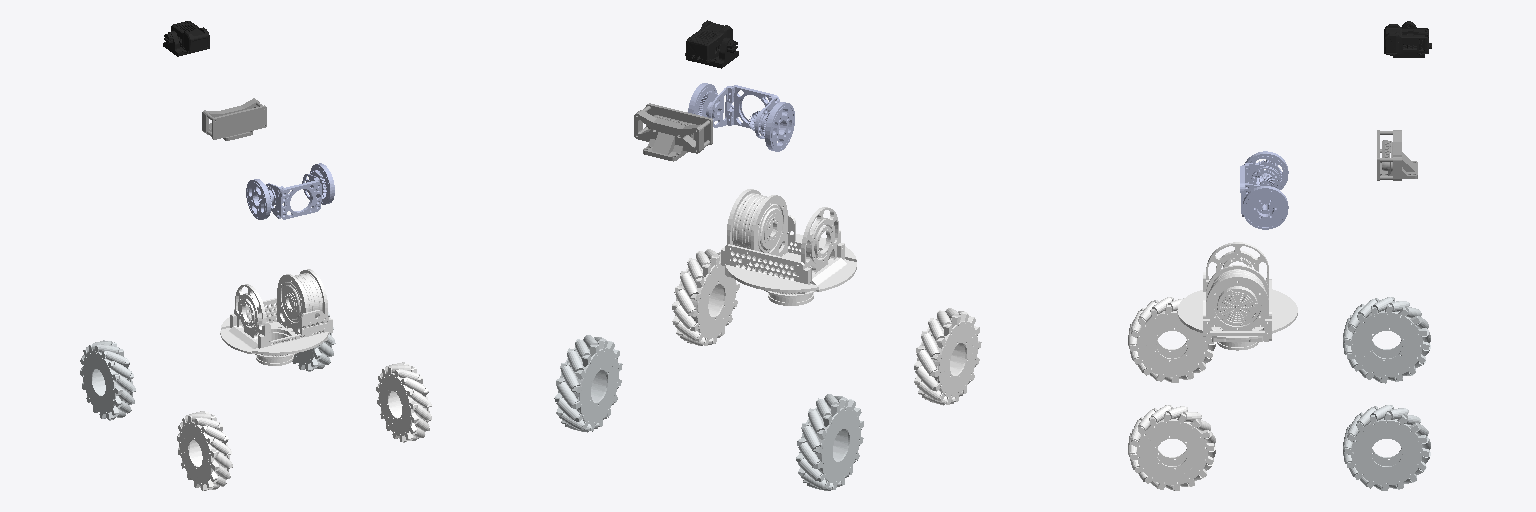
URDF robot description (rm26_version3_engineering_model):
<?xml version="1.0" encoding="utf-8"?>
<!-- This URDF was automatically created by SolidWorks to URDF Exporter! Originally created by Stephen Brawner (brawner@gmail.com) 
     Commit Version: 1.6.0-4-g7f85cfe  Build Version: 1.6.7995.38578
     For more information, please see http://wiki.ros.org/sw_urdf_exporter -->
<robot
  name="rm26_version3_engineering_model">
  <link
    name="base_link">
    <inertial>
      <origin
        xyz="-0.236757532207545 0.121588463591161 -0.0676624007516998"
        rpy="0 0 0" />
      <mass
        value="11.0867775313943" />
      <inertia
        ixx="0.0276402778153765"
        ixy="7.12860697020375E-06"
        ixz="6.19822905536815E-06"
        iyy="0.0341552091300131"
        iyz="-0.000107162802369357"
        izz="0.0242438684873564" />
    </inertial>
    <visual>
      <origin
        xyz="0 0 0"
        rpy="0 0 0" />
      <geometry>
        <mesh
          filename="package://rm26_version3_engineering_model/meshes/base_link.STL" />
      </geometry>
      <material
        name="">
        <color
          rgba="0.898039215686275 0.917647058823529 0.929411764705882 1" />
      </material>
    </visual>
    <collision>
      <origin
        xyz="0 0 0"
        rpy="0 0 0" />
      <geometry>
        <mesh
          filename="package://rm26_version3_engineering_model/meshes/base_link.STL" />
      </geometry>
    </collision>
  </link>
  <link
    name="image_pitch_link">
    <inertial>
      <origin
        xyz="-0.0034154 0.025425 0.013043"
        rpy="0 0 0" />
      <mass
        value="0.044079" />
      <inertia
        ixx="1.8568E-05"
        ixy="6.9783E-10"
        ixz="1.752E-12"
        iyy="2.3883E-05"
        iyz="-3.3459E-06"
        izz="1.1287E-05" />
    </inertial>
    <visual>
      <origin
        xyz="0 0 0"
        rpy="0 0 0" />
      <geometry>
        <mesh
          filename="package://rm26_version3_engineering_model/meshes/image_pitch_link.STL" />
      </geometry>
      <material
        name="">
        <color
          rgba="0.19216 0.19216 0.19216 1" />
      </material>
    </visual>
    <collision>
      <origin
        xyz="0 0 0"
        rpy="0 0 0" />
      <geometry>
        <mesh
          filename="package://rm26_version3_engineering_model/meshes/image_pitch_link.STL" />
      </geometry>
    </collision>
  </link>
  <joint
    name="image_pitch"
    type="revolute">
    <origin
      xyz="-0.28805 0.22267 0.67325"
      rpy="-1.5708 0 -1.5708" />
    <parent
      link="base_link" />
    <child
      link="image_pitch_link" />
    <axis
      xyz="0 0 -1" />
    <limit
      lower="-3.14"
      upper="3.14"
      effort="0"
      velocity="0" />
  </joint>
  <link
    name="fl_link">
    <inertial>
      <origin
        xyz="4.7721E-07 1.1235E-06 -0.036001"
        rpy="0 0 0" />
      <mass
        value="0.37893" />
      <inertia
        ixx="0.00064352"
        ixy="5.2133E-09"
        ixz="2.7057E-09"
        iyy="0.00064352"
        iyz="-3.3907E-09"
        izz="0.0011794" />
    </inertial>
    <visual>
      <origin
        xyz="0 0 0"
        rpy="0 0 0" />
      <geometry>
        <mesh
          filename="package://rm26_version3_engineering_model/meshes/fl_link.STL" />
      </geometry>
      <material
        name="">
        <color
          rgba="1 1 1 1" />
      </material>
    </visual>
    <collision>
      <origin
        xyz="0 0 0"
        rpy="0 0 0" />
      <geometry>
        <mesh
          filename="package://rm26_version3_engineering_model/meshes/fl_link.STL" />
      </geometry>
    </collision>
  </link>
  <joint
    name="fl_joint"
    type="continuous">
    <origin
      xyz="0.021077 -0.18986 -0.0099849"
      rpy="-1.5708 0 -1.5708" />
    <parent
      link="base_link" />
    <child
      link="fl_link" />
    <axis
      xyz="0 0 1" />
  </joint>
  <link
    name="fr_link">
    <inertial>
      <origin
        xyz="0 0 -0.0360012792503324"
        rpy="0 0 0" />
      <mass
        value="0.378934862276581" />
      <inertia
        ixx="0.00064351111447627"
        ixy="-1.46872589400361E-09"
        ixz="4.30727787305186E-09"
        iyy="0.000643521303479202"
        iyz="5.29646695086531E-10"
        izz="0.00117937606918303" />
    </inertial>
    <visual>
      <origin
        xyz="0 0 0"
        rpy="0 0 0" />
      <geometry>
        <mesh
          filename="package://rm26_version3_engineering_model/meshes/fr_link.STL" />
      </geometry>
      <material
        name="">
        <color
          rgba="1 1 1 1" />
      </material>
    </visual>
    <collision>
      <origin
        xyz="0 0 0"
        rpy="0 0 0" />
      <geometry>
        <mesh
          filename="package://rm26_version3_engineering_model/meshes/fr_link.STL" />
      </geometry>
    </collision>
  </link>
  <joint
    name="fr_joint"
    type="continuous">
    <origin
      xyz="-0.49582 -0.18986 -0.0099849"
      rpy="1.5708 0 -1.5708" />
    <parent
      link="base_link" />
    <child
      link="fr_link" />
    <axis
      xyz="0 0 -1" />
    <limit
      lower="0"
      upper="0"
      effort="0"
      velocity="0" />
  </joint>
  <link
    name="rl_link">
    <inertial>
      <origin
        xyz="3.9664E-06 -6.7681E-06 -0.033338"
        rpy="0 0 0" />
      <mass
        value="0.44071" />
      <inertia
        ixx="0.00070732"
        ixy="-6.5337E-08"
        ixz="-4.3045E-09"
        iyy="0.00070741"
        iyz="-5.2772E-10"
        izz="0.001307" />
    </inertial>
    <visual>
      <origin
        xyz="0 0 0"
        rpy="0 0 0" />
      <geometry>
        <mesh
          filename="package://rm26_version3_engineering_model/meshes/rl_link.STL" />
      </geometry>
      <material
        name="">
        <color
          rgba="0.89804 0.91765 0.92941 1" />
      </material>
    </visual>
    <collision>
      <origin
        xyz="0 0 0"
        rpy="0 0 0" />
      <geometry>
        <mesh
          filename="package://rm26_version3_engineering_model/meshes/rl_link.STL" />
      </geometry>
    </collision>
  </link>
  <joint
    name="rl_joint"
    type="continuous">
    <origin
      xyz="0.021077 0.18421 -0.0099849"
      rpy="-1.5708 0 -1.5708" />
    <parent
      link="base_link" />
    <child
      link="rl_link" />
    <axis
      xyz="0 0 -1" />
  </joint>
  <link
    name="rr_link">
    <inertial>
      <origin
        xyz="-3.68920147106322E-06 -6.92309481683216E-06 -0.0333380152520213"
        rpy="0 0 0" />
      <mass
        value="0.440705130669344" />
      <inertia
        ixx="0.000707325947182342"
        ixy="6.80270021459794E-08"
        ixz="-2.70416454355222E-09"
        iyy="0.000707403534002758"
        iyz="3.39164968402274E-09"
        izz="0.00130698047684971" />
    </inertial>
    <visual>
      <origin
        xyz="0 0 0"
        rpy="0 0 0" />
      <geometry>
        <mesh
          filename="package://rm26_version3_engineering_model/meshes/rr_link.STL" />
      </geometry>
      <material
        name="">
        <color
          rgba="0.898039215686275 0.917647058823529 0.929411764705882 1" />
      </material>
    </visual>
    <collision>
      <origin
        xyz="0 0 0"
        rpy="0 0 0" />
      <geometry>
        <mesh
          filename="package://rm26_version3_engineering_model/meshes/rr_link.STL" />
      </geometry>
    </collision>
  </link>
  <joint
    name="rr_joint"
    type="continuous">
    <origin
      xyz="-0.49582 0.18421 -0.0099849"
      rpy="1.5708 0 -1.5708" />
    <parent
      link="base_link" />
    <child
      link="rr_link" />
    <axis
      xyz="0 0 -1" />
  </joint>
  <link
    name="j0_link">
    <inertial>
      <origin
        xyz="2.3026E-05 0.025841 0.035553"
        rpy="0 0 0" />
      <mass
        value="1.0643" />
      <inertia
        ixx="0.0012382"
        ixy="1.9441E-08"
        ixz="1.674E-07"
        iyy="0.0013392"
        iyz="-9.1485E-06"
        izz="0.0014927" />
    </inertial>
    <visual>
      <origin
        xyz="0 0 0"
        rpy="0 0 0" />
      <geometry>
        <mesh
          filename="package://rm26_version3_engineering_model/meshes/j0_link.STL" />
      </geometry>
      <material
        name="">
        <color
          rgba="1 1 1 1" />
      </material>
    </visual>
    <collision>
      <origin
        xyz="0 0 0"
        rpy="0 0 0" />
      <geometry>
        <mesh
          filename="package://rm26_version3_engineering_model/meshes/j0_link.STL" />
      </geometry>
    </collision>
  </link>
  <joint
    name="j0"
    type="revolute">
    <origin
      xyz="-0.23762 -0.075826 0.13063"
      rpy="0 0 -1.5708" />
    <parent
      link="base_link" />
    <child
      link="j0_link" />
    <axis
      xyz="0 0 1" />
    <limit
      lower="-6.28"
      upper="6.28"
      effort="0"
      velocity="0" />
  </joint>
  <link
    name="j1_link">
    <inertial>
      <origin
        xyz="-0.21452007134394 -0.123869194640968 0.0297993087824913"
        rpy="0 0 0" />
      <mass
        value="0.745566541234434" />
      <inertia
        ixx="0.00405331889035177"
        ixy="-0.00562566715369828"
        ixz="-2.60553379773979E-05"
        iyy="0.0105491816338337"
        iyz="-1.50314469915947E-05"
        izz="0.0140980783695654" />
    </inertial>
    <visual>
      <origin
        xyz="0 0 0"
        rpy="0 0 0" />
      <geometry>
        <mesh
          filename="package://rm26_version3_engineering_model/meshes/j1_link.STL" />
      </geometry>
      <material
        name="">
        <color
          rgba="0.898039215686275 0.917647058823529 0.929411764705882 1" />
      </material>
    </visual>
    <collision>
      <origin
        xyz="0 0 0"
        rpy="0 0 0" />
      <geometry>
        <mesh
          filename="package://rm26_version3_engineering_model/meshes/j1_link.STL" />
      </geometry>
    </collision>
  </link>
  <joint
    name="j1"
    type="revolute">
    <origin
      xyz="0 -0.0365 0.0699"
      rpy="-1.5708 0 0" />
    <parent
      link="j0_link" />
    <child
      link="j1_link" />
    <axis
      xyz="0 0 1" />
    <limit
      lower="-6.28"
      upper="6.28"
      effort="0"
      velocity="0" />
  </joint>
  <link
    name="j2_link">
    <inertial>
      <origin
        xyz="0.0696429141526274 0.000316192584525476 0.0332053814692544"
        rpy="0 0 0" />
      <mass
        value="0.409938410552178" />
      <inertia
        ixx="0.000199601281880135"
        ixy="-6.21075766536687E-07"
        ixz="-1.22800316742059E-06"
        iyy="0.000636339600801682"
        iyz="-1.57166121087402E-08"
        izz="0.000639339288858898" />
    </inertial>
    <visual>
      <origin
        xyz="0 0 0"
        rpy="0 0 0" />
      <geometry>
        <mesh
          filename="package://rm26_version3_engineering_model/meshes/j2_link.STL" />
      </geometry>
      <material
        name="">
        <color
          rgba="1 1 1 1" />
      </material>
    </visual>
    <collision>
      <origin
        xyz="0 0 0"
        rpy="0 0 0" />
      <geometry>
        <mesh
          filename="package://rm26_version3_engineering_model/meshes/j2_link.STL" />
      </geometry>
    </collision>
  </link>
  <joint
    name="j2"
    type="revolute">
    <origin
      xyz="-0.36373 -0.21 0.06675"
      rpy="0 0 0" />
    <parent
      link="j1_link" />
    <child
      link="j2_link" />
    <axis
      xyz="0 0 -1" />
    <limit
      lower="-6.28"
      upper="6.28"
      effort="0"
      velocity="0" />
  </joint>
  <link
    name="j3_link">
    <inertial>
      <origin
        xyz="-0.00632789879794857 2.8398085042014E-05 0.0325503332561586"
        rpy="0 0 0" />
      <mass
        value="0.281074667367315" />
      <inertia
        ixx="0.00013171452454055"
        ixy="1.33166990827616E-08"
        ixz="-7.34964430261519E-09"
        iyy="0.000119079773547782"
        iyz="-9.25326592920787E-08"
        izz="0.000132330758439381" />
    </inertial>
    <visual>
      <origin
        xyz="0 0 0"
        rpy="0 0 0" />
      <geometry>
        <mesh
          filename="package://rm26_version3_engineering_model/meshes/j3_link.STL" />
      </geometry>
      <material
        name="">
        <color
          rgba="0.898039215686275 0.917647058823529 0.929411764705882 1" />
      </material>
    </visual>
    <collision>
      <origin
        xyz="0 0 0"
        rpy="0 0 0" />
      <geometry>
        <mesh
          filename="package://rm26_version3_engineering_model/meshes/j3_link.STL" />
      </geometry>
    </collision>
  </link>
  <joint
    name="j3"
    type="revolute">
    <origin
      xyz="0.1465 0 0.033"
      rpy="0 -1.5708 3.1415926" />
    <parent
      link="j2_link" />
    <child
      link="j3_link" />
    <axis
      xyz="0 0 1" />
    <limit
      lower="-6.28"
      upper="6.28"
      effort="0"
      velocity="0" />
  </joint>
  <link
    name="j4_link">
    <inertial>
      <origin
        xyz="0.062951 1.0715E-08 -0.051623"
        rpy="0 0 0" />
      <mass
        value="0.41838" />
      <inertia
        ixx="0.00015462"
        ixy="2.5882E-11"
        ixz="-4.2806E-08"
        iyy="0.00033976"
        iyz="1.0648E-09"
        izz="0.0003785" />
    </inertial>
    <visual>
      <origin
        xyz="0 0 0"
        rpy="0 0 0" />
      <geometry>
        <mesh
          filename="package://rm26_version3_engineering_model/meshes/j4_link.STL" />
      </geometry>
      <material
        name="">
        <color
          rgba="1 1 1 1" />
      </material>
    </visual>
    <collision>
      <origin
        xyz="0 0 0"
        rpy="0 0 0" />
      <geometry>
        <mesh
          filename="package://rm26_version3_engineering_model/meshes/j4_link.STL" />
      </geometry>
    </collision>
  </link>
  <joint
    name="j4"
    type="revolute">
    <origin
      xyz="-0.0515 0 0.0475"
      rpy="3.1416 -1.5708 3.1415926" />
    <parent
      link="j3_link" />
    <child
      link="j4_link" />
    <axis
      xyz="0 0 1" />
    <limit
      lower="-6.28"
      upper="6.28"
      effort="0"
      velocity="0" />
  </joint>
  <link
    name="j5_link">
    <inertial>
      <origin
        xyz="0.011594 -3.4728E-09 -0.073929"
        rpy="0 0 0" />
      <mass
        value="0.22795" />
      <inertia
        ixx="0.0001062"
        ixy="-4.4949E-11"
        ixz="-4.9646E-10"
        iyy="8.0988E-05"
        iyz="-9.6973E-13"
        izz="9.1244E-05" />
    </inertial>
    <visual>
      <origin
        xyz="0 0 0"
        rpy="0 0 0" />
      <geometry>
        <mesh
          filename="package://rm26_version3_engineering_model/meshes/j5_link.STL" />
      </geometry>
      <material
        name="">
        <color
          rgba="0.79608 0.82353 0.93725 1" />
      </material>
    </visual>
    <collision>
      <origin
        xyz="0 0 0"
        rpy="0 0 0" />
      <geometry>
        <mesh
          filename="package://rm26_version3_engineering_model/meshes/j5_link.STL" />
      </geometry>
    </collision>
  </link>
  <joint
    name="end_differential_controller/j5"
    type="revolute">
    <origin
      xyz="0.1211 0 0.0245"
      rpy="0 0 -0.042714" />
    <parent
      link="j4_link" />
    <child
      link="j5_link" />
    <axis
      xyz="0 0 1" />
    <limit
      lower="-6.28"
      upper="6.28"
      effort="0"
      velocity="0" />
  </joint>
  <link
    name="j6_link">
    <inertial>
      <origin
        xyz="-0.00556809061221175 0.00219332288591756 0.0632314046408631"
        rpy="0 0 0" />
      <mass
        value="0.420526104189671" />
      <inertia
        ixx="0.000139233197361273"
        ixy="1.1378053768375E-08"
        ixz="4.20944902019558E-07"
        iyy="0.00022836182456035"
        iyz="1.92096833440415E-06"
        izz="0.000184316808132472" />
    </inertial>
    <visual>
      <origin
        xyz="0 0 0"
        rpy="0 0 0" />
      <geometry>
        <mesh
          filename="package://rm26_version3_engineering_model/meshes/j6_link.STL" />
      </geometry>
      <material
        name="">
        <color
          rgba="1 1 1 1" />
      </material>
    </visual>
    <collision>
      <origin
        xyz="0 0 0"
        rpy="0 0 0" />
      <geometry>
        <mesh
          filename="package://rm26_version3_engineering_model/meshes/j6_link.STL" />
      </geometry>
    </collision>
  </link>
  <joint
    name="end_differential_controller/j6"
    type="revolute">
    <origin
      xyz="0.012369 0 -0.0755"
      rpy="0.042714 1.5708 0.09" />
    <parent
      link="j5_link" />
    <child
      link="j6_link" />
    <axis
      xyz="0 0 1" />
    <limit
      lower="-6.28"
      upper="6.28"
      effort="0"
      velocity="0" />
  </joint>
  <link
    name="end_link">
  </link>
  <joint
    name="end_joint"
    type="revolute">
    <origin
      xyz="-0.02505 0.031474 0.07154"
      rpy="0 -1.5281 -1.5708" />
    <parent
      link="j6_link" />
    <child
      link="end_link" />
    <axis
      xyz="0 0 -1" />
    <limit
      lower="-6.28"
      upper="6.28"
      effort="0"
      velocity="0" />
  </joint>
  <link
    name="camera_link">
    <inertial>
      <origin
        xyz="0.012567 -0.0225 -0.0042981"
        rpy="0 0 0" />
      <mass
        value="0.056516" />
      <inertia
        ixx="6.5872E-05"
        ixy="-5.5128E-19"
        ixz="-1.1392E-07"
        iyy="1.3054E-05"
        iyz="5.6743E-20"
        izz="5.8923E-05" />
    </inertial>
    <visual>
      <origin
        xyz="0 0 0"
        rpy="0 0 0" />
      <geometry>
        <mesh
          filename="package://rm26_version3_engineering_model/meshes/camera_link.STL" />
      </geometry>
      <material
        name="">
        <color
          rgba="0.69804 0.69804 0.69804 1" />
      </material>
    </visual>
    <collision>
      <origin
        xyz="0 0 0"
        rpy="0 0 0" />
      <geometry>
        <mesh
          filename="package://rm26_version3_engineering_model/meshes/camera_link.STL" />
      </geometry>
    </collision>
  </link>
  <joint
    name="camera_joint"
    type="fixed">
    <origin
      xyz="0.093 -0.0675 0.0555"
      rpy="1.5708 0 0" />
    <parent
      link="j2_link" />
    <child
      link="camera_link" />
    <axis
      xyz="0 0 0" />
  </joint>
</robot>

--- What the picture shows (computed from the rendered views, not written in the file) ---
The picture shows the robot from 3 angles, left to right: view 1: azimuth 30°, elevation 25°; view 2: azimuth 150°, elevation 25°; view 3: azimuth 270°, elevation 25°; orthographic projection.
Robot: rm26_version3_engineering_model — 15 links, 14 joints (9 revolute, 4 continuous, 1 fixed); root link base_link; default pose: every joint at zero.
Links seen in each view (by area): view 1: j0_link, rr_link, fl_link, fr_link, j5_link, camera_link, image_pitch_link, rl_link; view 2: j0_link, rl_link, fr_link, rr_link, fl_link, j5_link, camera_link, image_pitch_link; view 3: j0_link, rl_link, rr_link, fl_link, fr_link, j5_link, camera_link, image_pitch_link.
Boxes of the visible links, x1=… form: j0_link: x1=220, y1=269, x2=332, y2=365; rr_link: x1=80, y1=340, x2=135, y2=420; fl_link: x1=376, y1=362, x2=431, y2=442; fr_link: x1=177, y1=411, x2=232, y2=490; j5_link: x1=246, y1=163, x2=334, y2=219; camera_link: x1=202, y1=98, x2=266, y2=140; image_pitch_link: x1=163, y1=21, x2=209, y2=56; rl_link: x1=292, y1=312, x2=335, y2=371; j0_link: x1=721, y1=189, x2=856, y2=305; rl_link: x1=554, y1=335, x2=622, y2=432; fr_link: x1=914, y1=308, x2=981, y2=405; rr_link: x1=796, y1=394, x2=863, y2=490; fl_link: x1=672, y1=249, x2=739, y2=345; j5_link: x1=688, y1=83, x2=794, y2=151; camera_link: x1=634, y1=103, x2=712, y2=161; image_pitch_link: x1=685, y1=20, x2=738, y2=68; j0_link: x1=1177, y1=242, x2=1297, y2=350; rl_link: x1=1343, y1=405, x2=1430, y2=490; rr_link: x1=1343, y1=297, x2=1430, y2=383; fl_link: x1=1128, y1=405, x2=1215, y2=490; fr_link: x1=1128, y1=297, x2=1215, y2=382; j5_link: x1=1240, y1=151, x2=1288, y2=229; camera_link: x1=1377, y1=130, x2=1417, y2=180; image_pitch_link: x1=1384, y1=21, x2=1431, y2=57.
Size in the robot's own frame: 0.4859 by 0.5294 by 0.7697 metres.
8 mesh visuals loaded from 14 distinct referenced files (8 binary STL); not drawn: 6 (reference not matched to a file when rendering).
